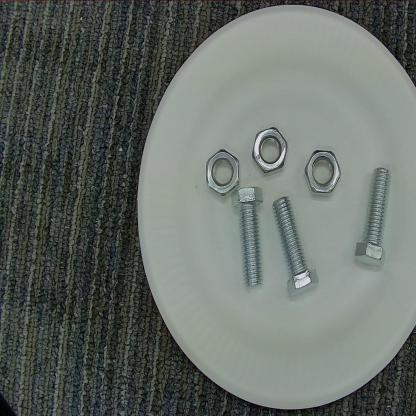FOD: (270, 192, 323, 298), (352, 159, 396, 272), (228, 186, 267, 288), (301, 144, 344, 200), (203, 141, 241, 200), (250, 123, 289, 179)
